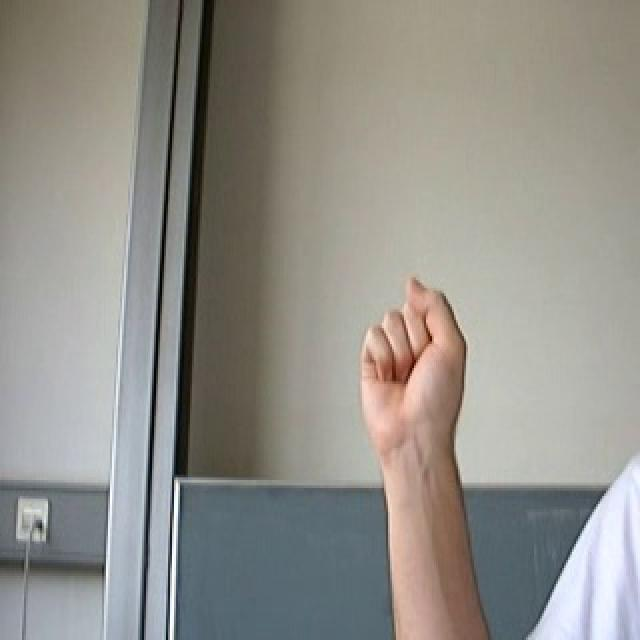S: (348, 262, 478, 464)
